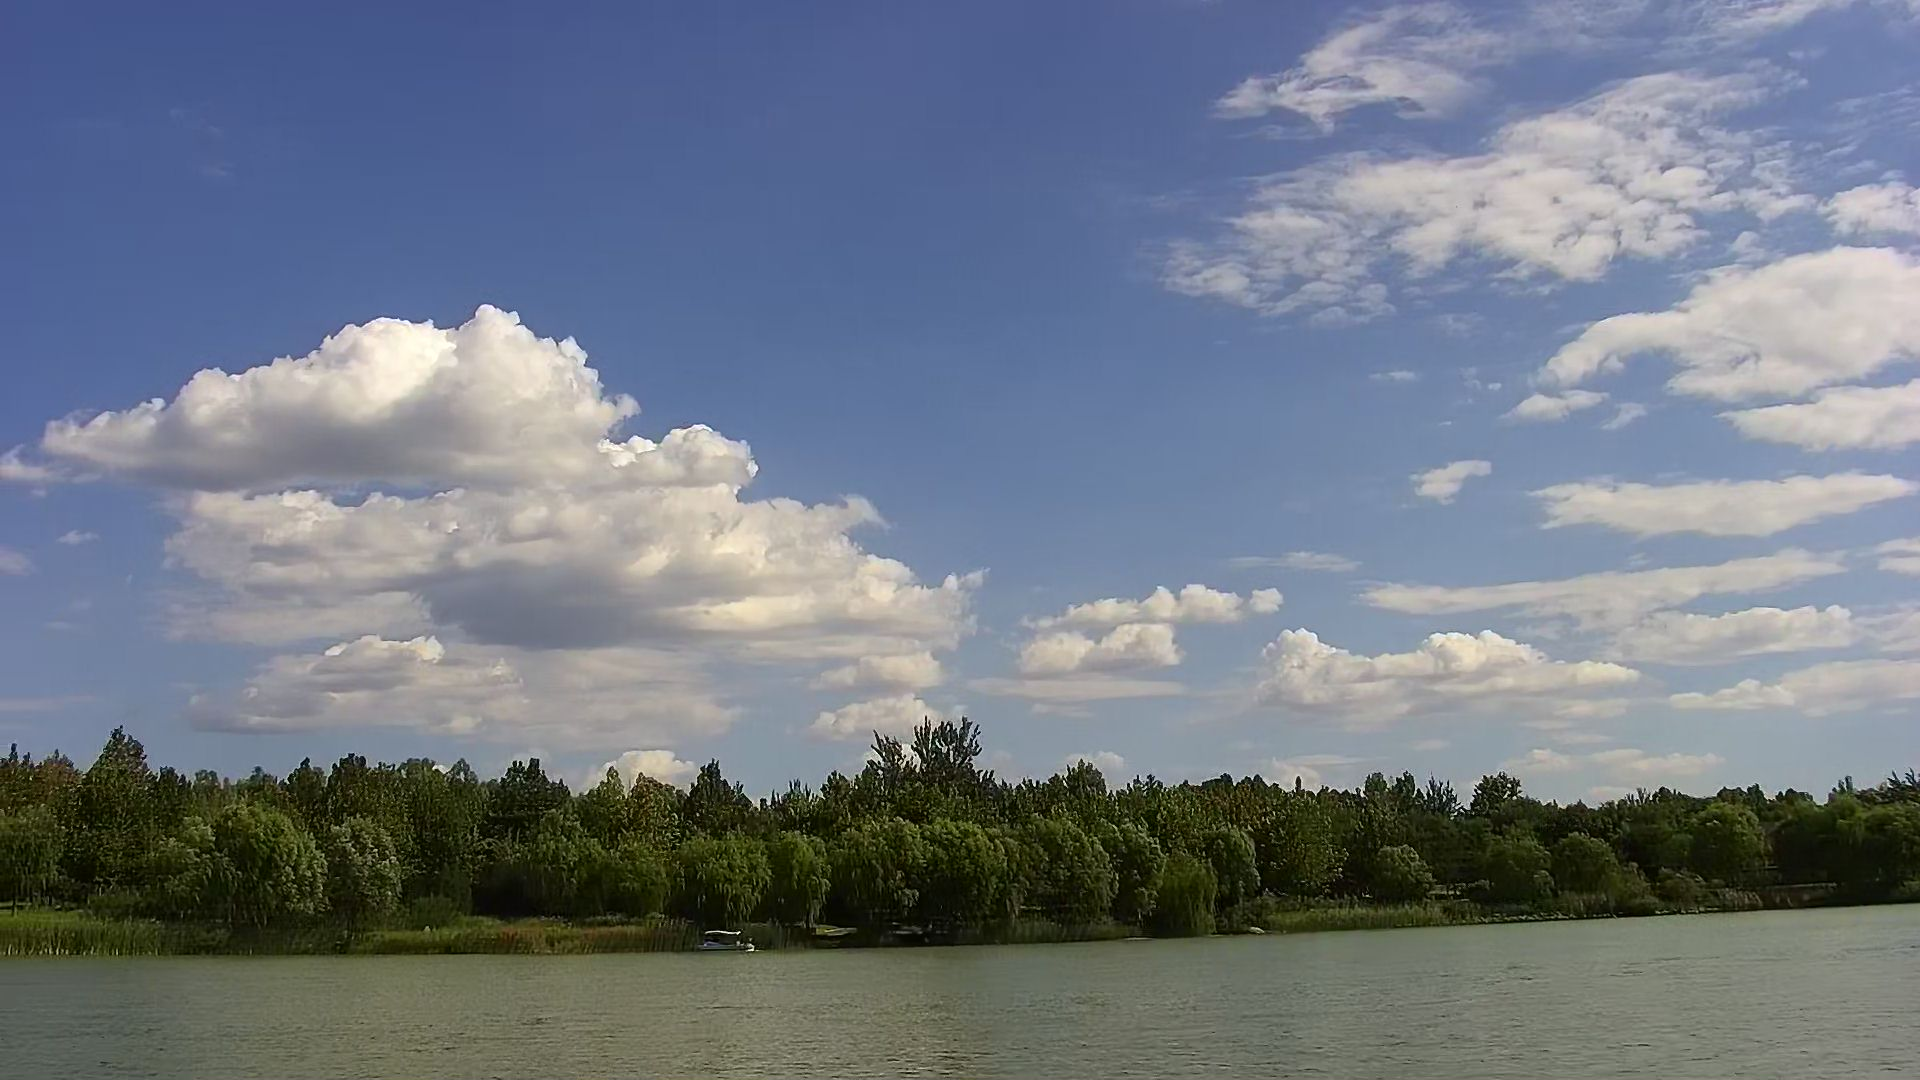boat: (698, 924, 761, 957)
